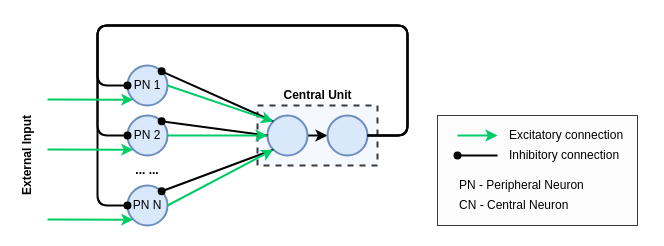
The diagram is 664 pixels wide and 246 high, and some of its shapes have lost their labels. The shapes that lost their labels are listed below. From the top down, each one's box as (x1, y1, x2, y2) in pixels, then its label:
(266, 114, 308, 156): CN 1
(326, 114, 368, 156): CN 2
